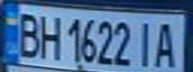1: (60, 14, 81, 62)
2: (112, 17, 136, 69), (93, 16, 115, 65)
6: (78, 16, 100, 64)
A: (151, 18, 181, 70)
B: (12, 9, 42, 58)
H: (36, 11, 63, 61)
I: (133, 18, 157, 69)
